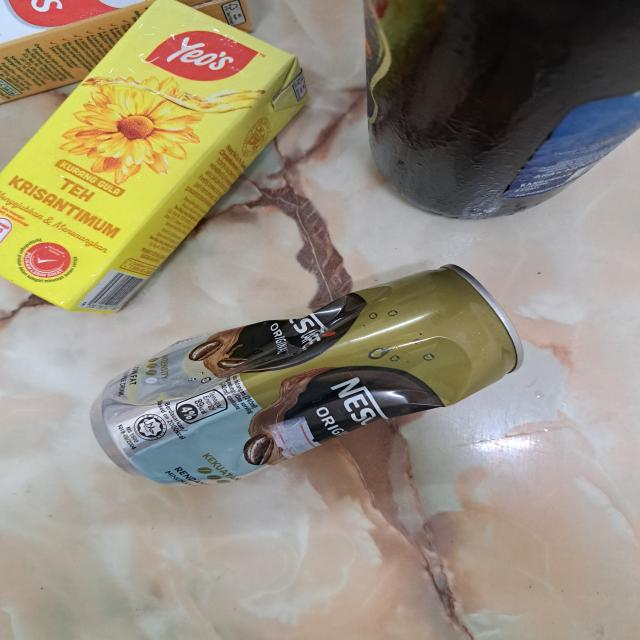can: (93, 262, 526, 483), (362, 0, 640, 218)
drink carton: (0, 0, 308, 313), (0, 0, 259, 101), (111, 195, 116, 198)
